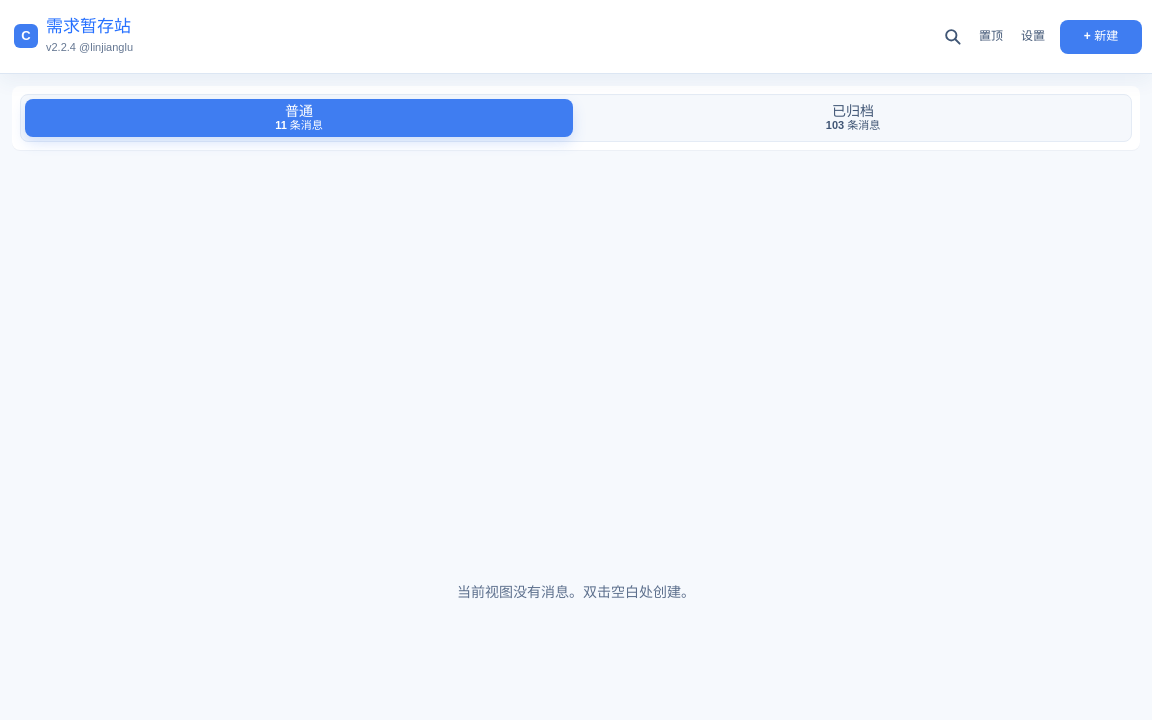
media create form › opens the composer when double clicking the empty list area
Step 1. Double-click the button "当前视图没有消息。双击空白处创建。" → x=576, y=592, box [12,482,1140,702]
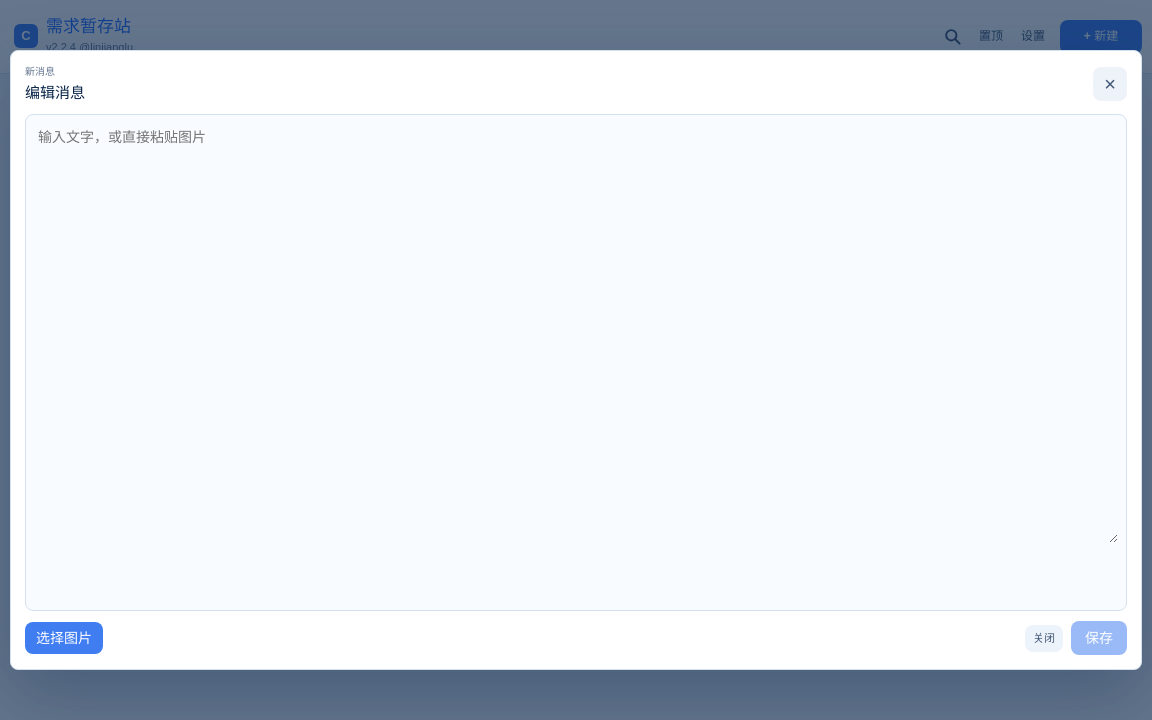
Expected: the dialog named "编辑新消息" is shown
